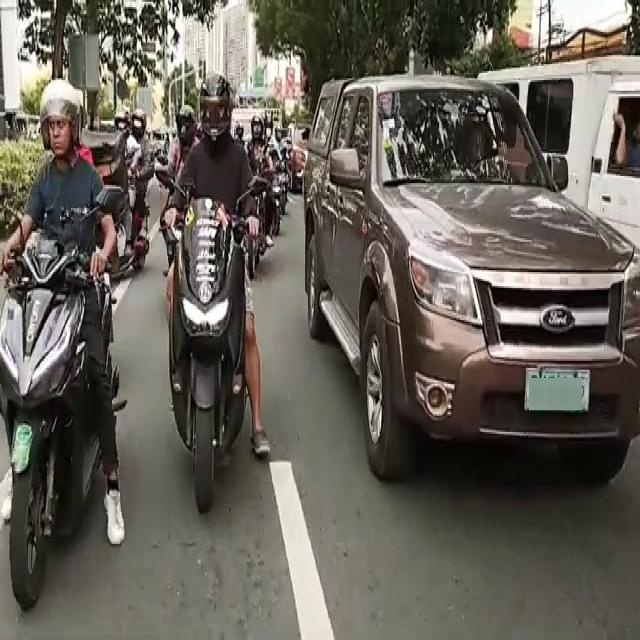car: (321, 79, 638, 506)
motorcycle: (165, 89, 261, 495), (0, 128, 92, 531), (110, 124, 150, 290), (250, 117, 274, 270)
